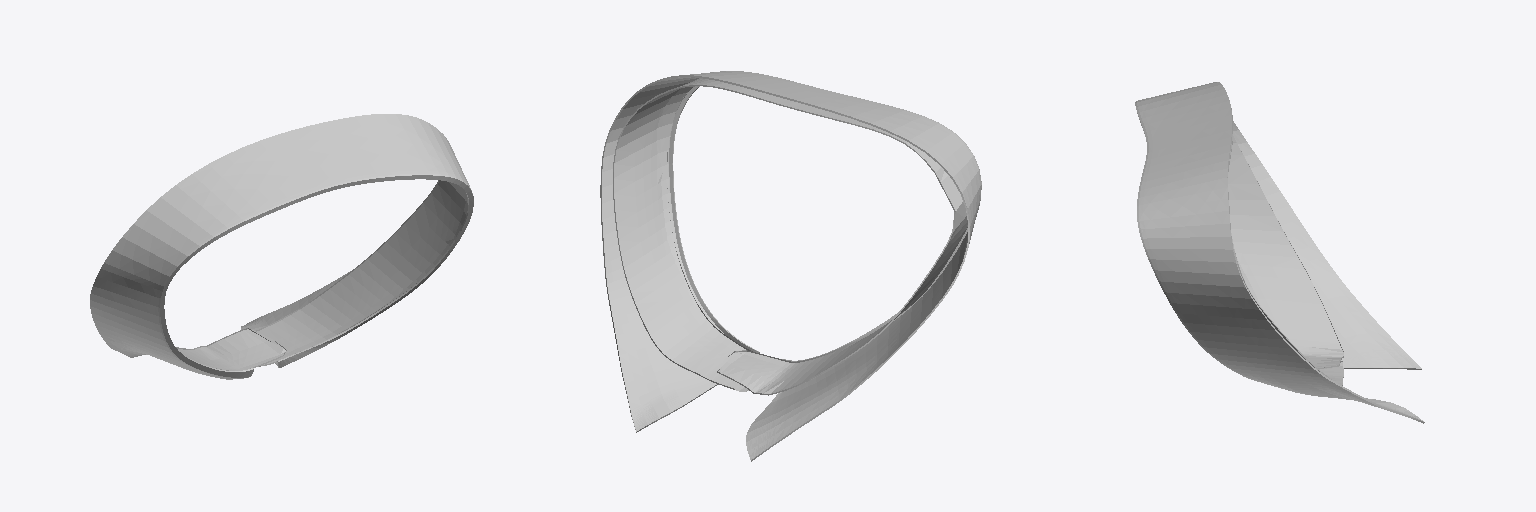
File: due_button_down.obj
3 renders of one model, left to right at view 1: azimuth 30°, elevation 25°; view 2: azimuth 150°, elevation 25°; view 3: azimuth 270°, elevation 25°, orthographic.
Parts seen in each view (by area): view 1: 15_due_Button_down, inner_collar_out; view 2: 15_due_Button_down, inner_collar_out; view 3: 15_due_Button_down, inner_collar_out.
Boxes of the visible parts, <box> form: 15_due_Button_down: <box>90,114,473,379</box>; inner_collar_out: <box>176,180,466,370</box>; 15_due_Button_down: <box>600,71,981,461</box>; inner_collar_out: <box>613,78,967,395</box>; 15_due_Button_down: <box>1135,82,1424,423</box>; inner_collar_out: <box>1142,134,1343,385</box>.
Size of the model in its own units: 17.66 by 13.18 by 12.3.